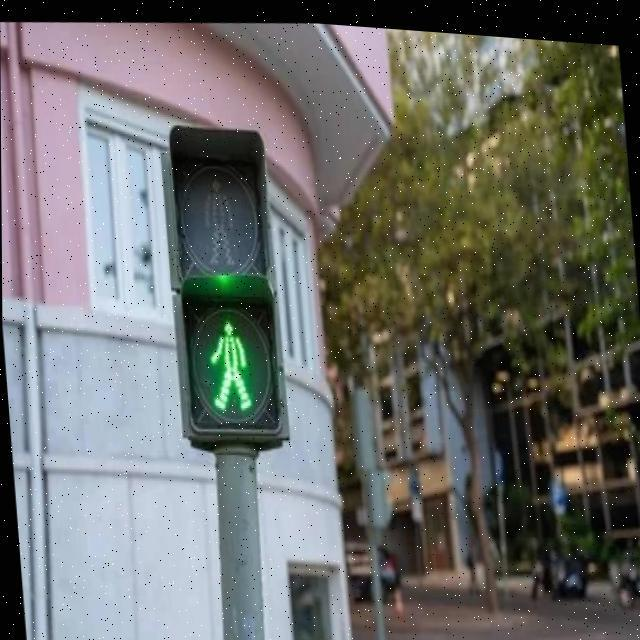green_light: (194, 305, 268, 417)
